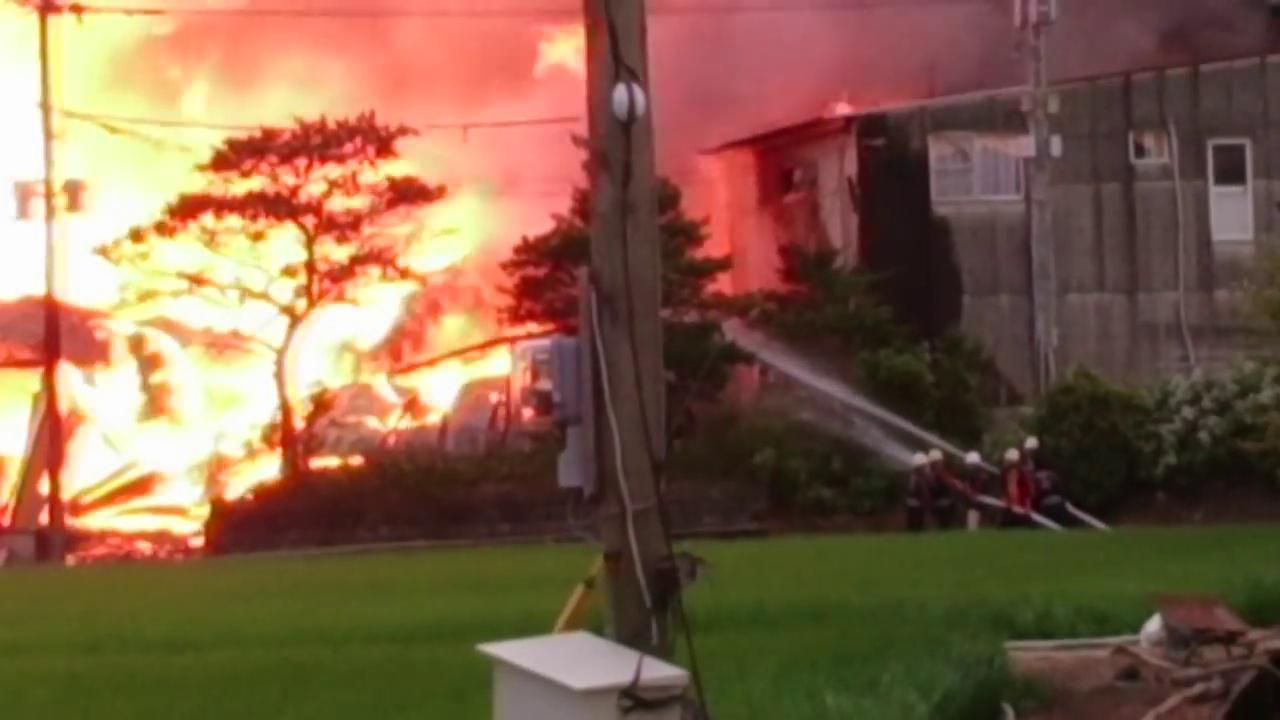Fire: (5, 11, 501, 540)
